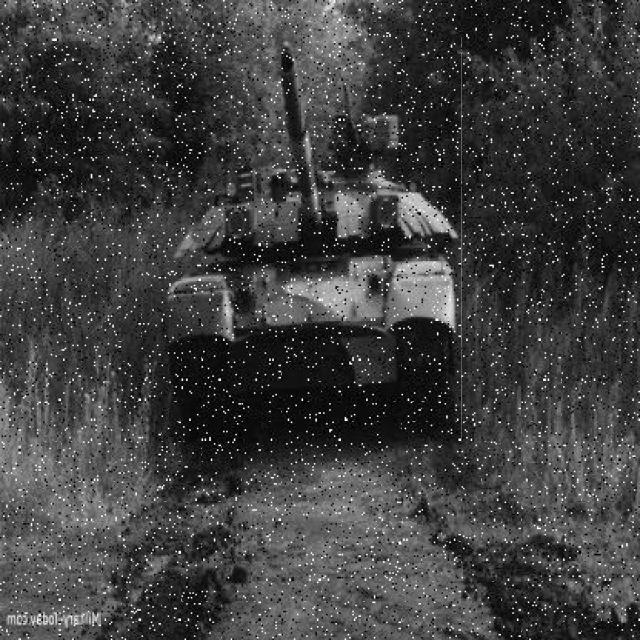Tank: (166, 40, 463, 446)
